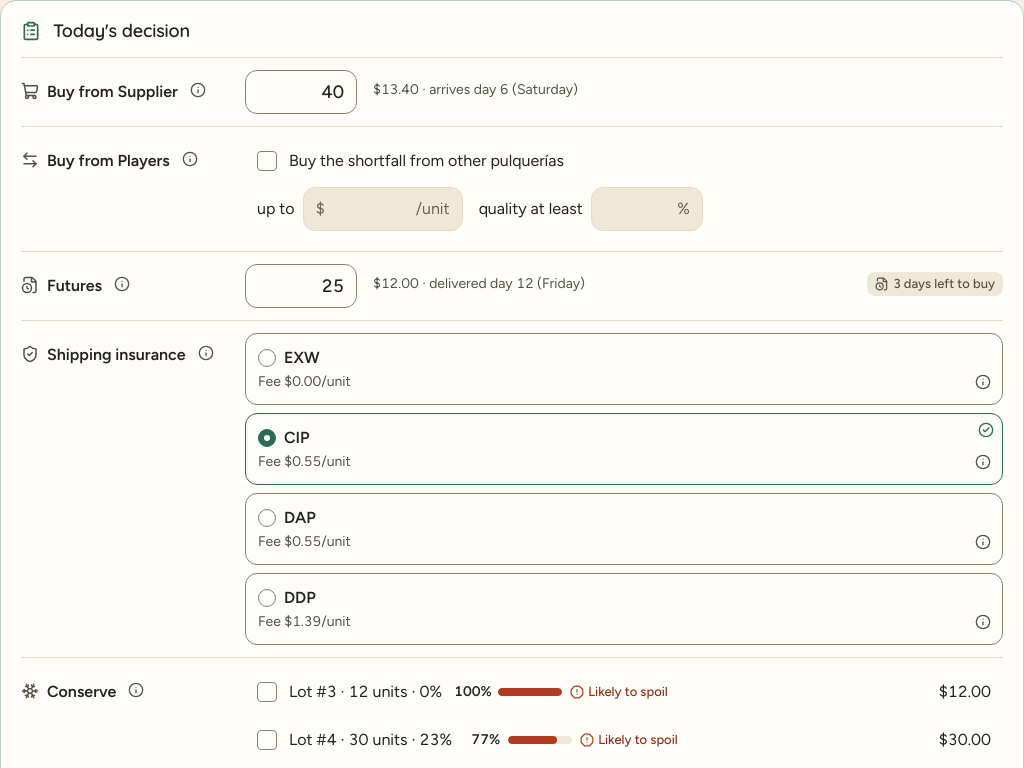
Test: quantity validity (acceptance criteria 5 and 16) › a futures order above 9,999 shows the spec message once left, and Submit day stays enabled
The image size is (1024, 768).
Replace the text in the field named "Futures" next to "$12.00 · delivered day 12 (Friday)" with "10000": (301, 286) [258,272,344,300]
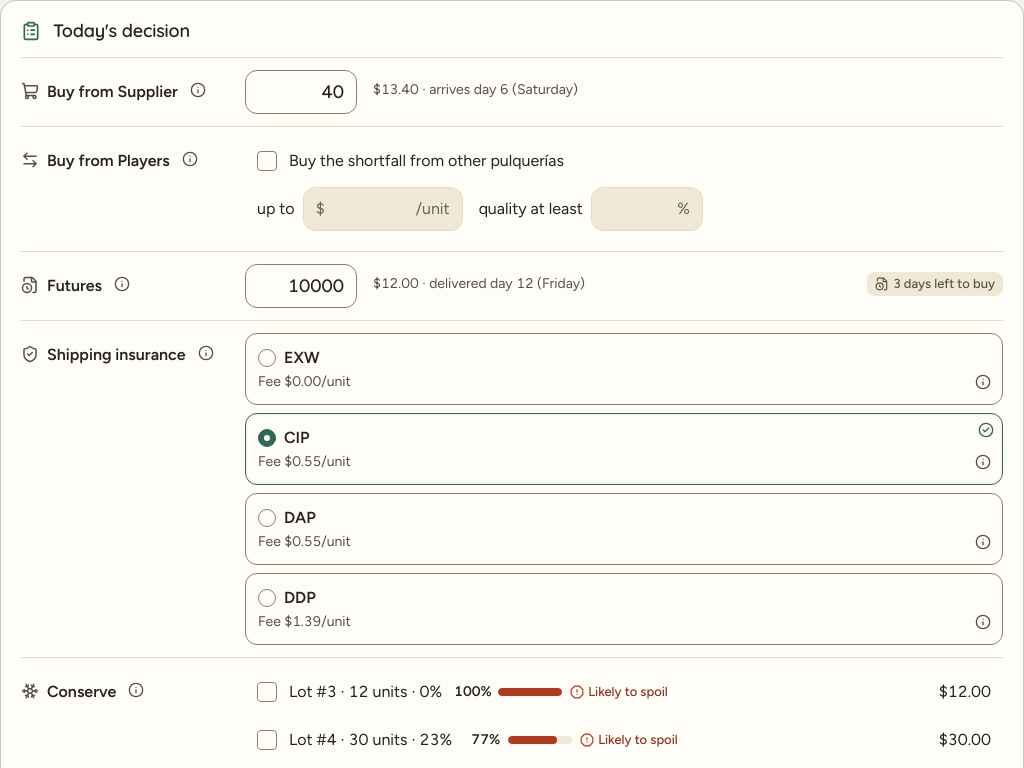
Leave the field named "Futures" next to "$12.00 · delivered day 12 (Friday)", box [258,272,344,300]
(page scrolled)
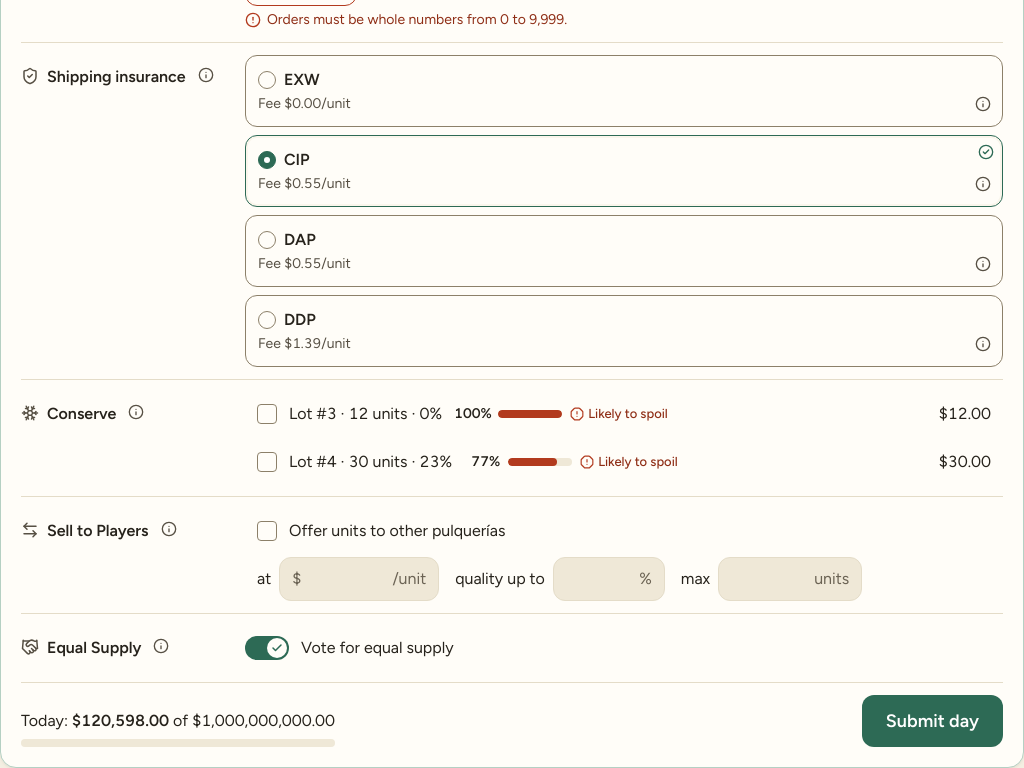
Expected: the button "Submit day" is enabled, [862,695,1003,747]
Expected: the text "Orders must be whole numbers from 0 to 9,999." is shown, [245,10,567,30]
